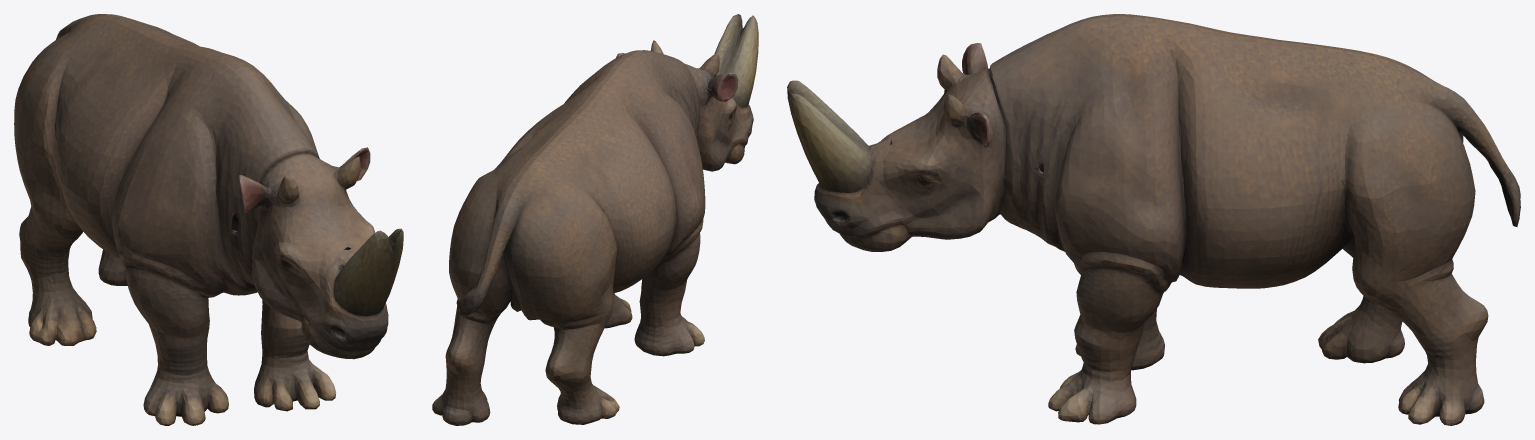
3 views of the same model, side by side, from view 1: azimuth 30°, elevation 25°; view 2: azimuth 150°, elevation 25°; view 3: azimuth 270°, elevation 25° (orthographic). The views are drawn at different scales.
Parts seen in each view (by area): view 1: world; view 2: world; view 3: world.
Boxes of the visible parts, <box> form: world: <box>14,14,403,425</box>; world: <box>432,14,758,425</box>; world: <box>787,14,1520,425</box>.
Bounding box in the file's own units: 0.3454 × 0.5516 × 0.9992.
1 material, 1 textured.
